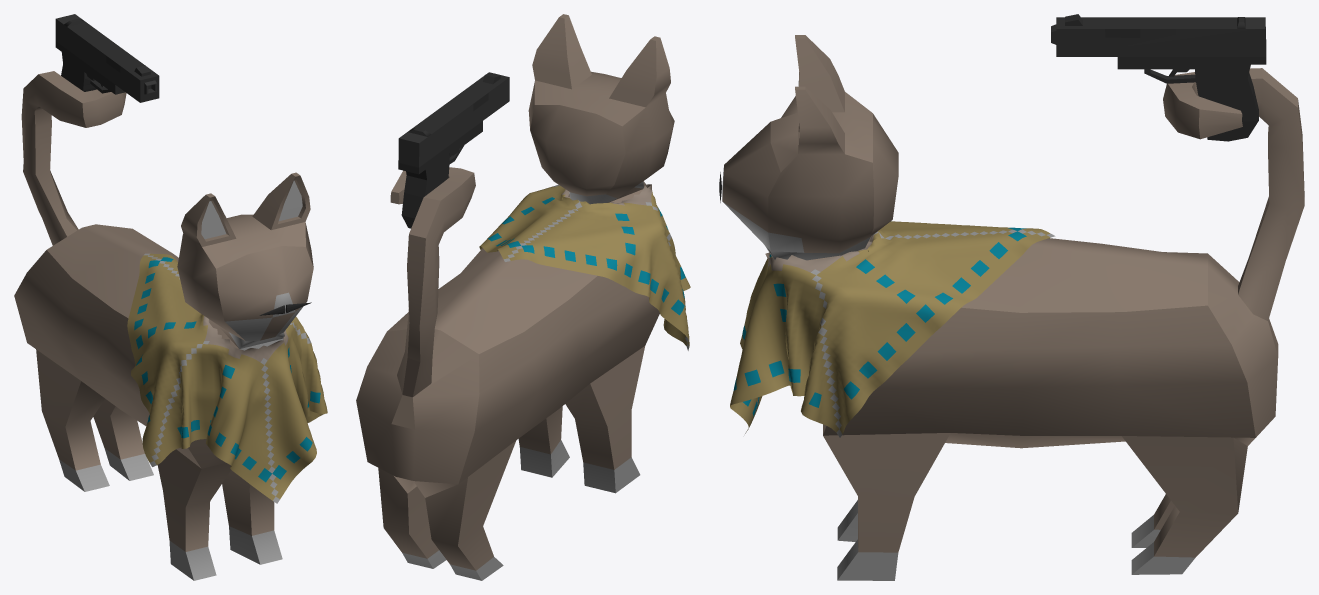
File: Player4.fbx
3 renders of one model, left to right at view 1: azimuth 30°, elevation 25°; view 2: azimuth 150°, elevation 25°; view 3: azimuth 270°, elevation 25°, orthographic. The views are drawn at different scales.
Parts seen in each view (by area): view 1: polySurface82; view 2: polySurface82; view 3: polySurface82.
Part boxes in pixels (box(x1,y1,x2,y2)): polySurface82: box(14, 14, 327, 580); polySurface82: box(356, 14, 690, 580); polySurface82: box(719, 14, 1304, 580).
Bounding box in the file's own units: 13.21 × 31.78 × 31.4.
